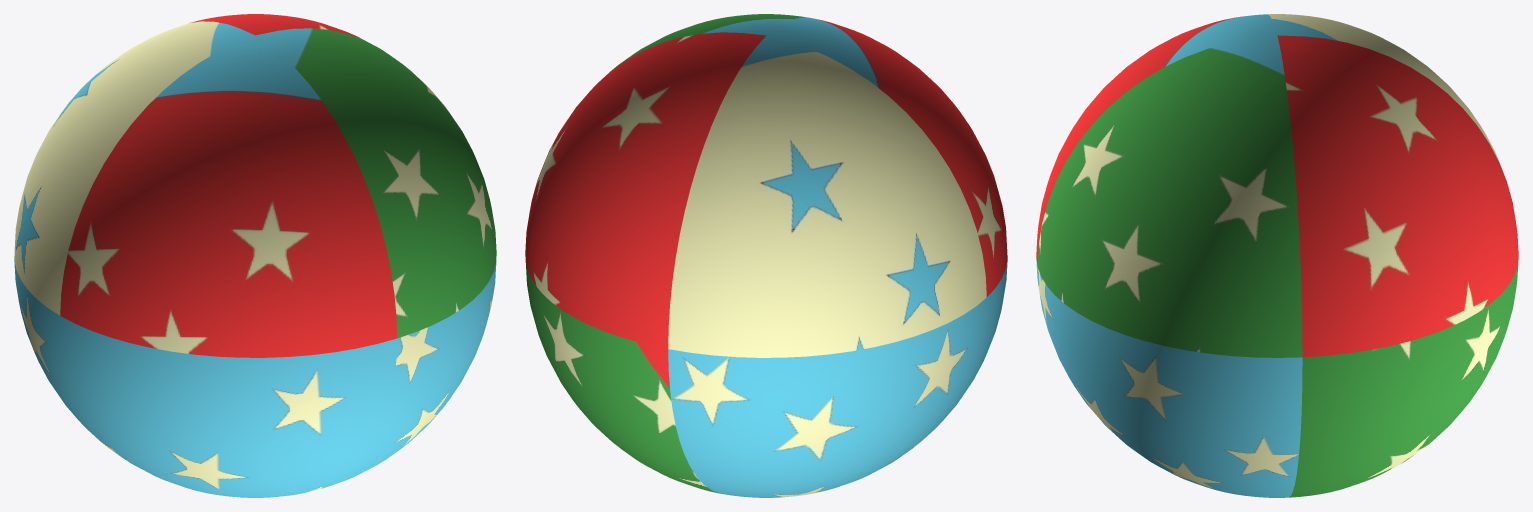
Rendered from pelota.obj.
3 renders of one model, left to right at view 1: azimuth 30°, elevation 25°; view 2: azimuth 150°, elevation 25°; view 3: azimuth 270°, elevation 25°, orthographic.
Visible parts, largest first — view 1: ball001; view 2: ball001; view 3: ball001.
Boxes of the visible parts, <box> form: ball001: <box>14,14,496,497</box>; ball001: <box>525,14,1007,497</box>; ball001: <box>1036,14,1518,497</box>.
Size of the model in its own units: 2.22 by 2.24 by 2.22.
1 material, 1 textured.
